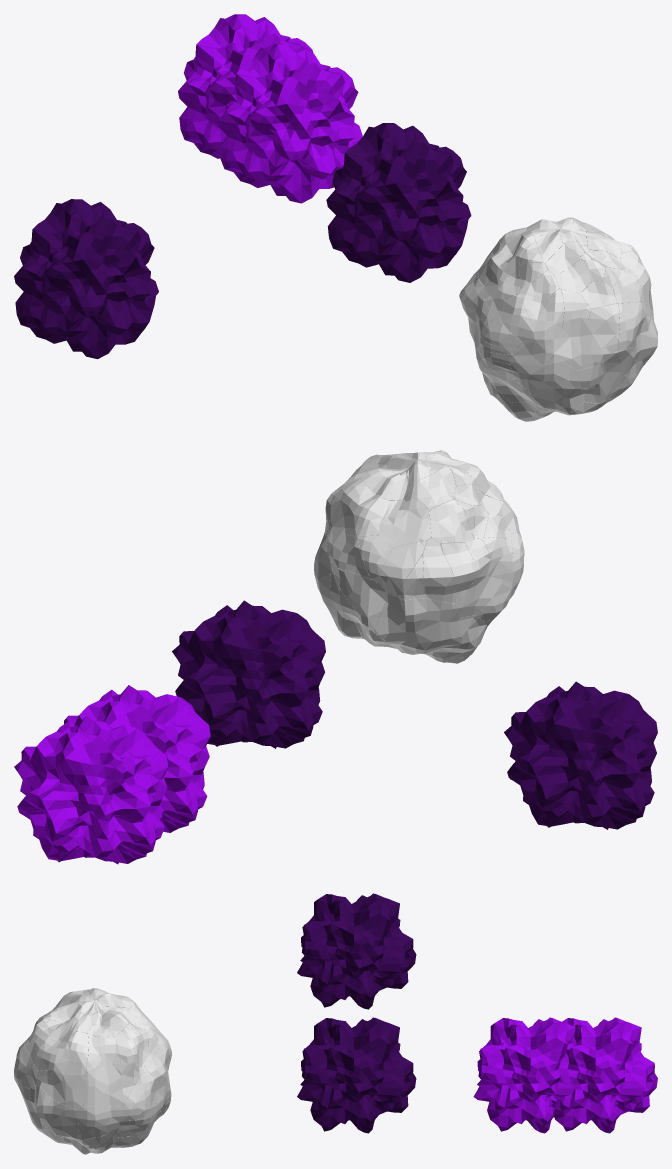
The model's file is blenderIMPgame2.fbx.
3 views of the same model, one above another, from view 1: azimuth 30°, elevation 25°; view 2: azimuth 150°, elevation 25°; view 3: azimuth 270°, elevation 25° (orthographic). The views are drawn at different scales.
Parts seen in each view (by area): view 1: Icosphere, Icosphere.001, Icosphere_cell.044, Icosphere_cell.035, Sphere_cell.097, Icosphere_cell.029, Icosphere_cell.034, Icosphere_cell.028, Icosphere_cell.017, Sphere_cell.020, Icosphere_cell.038, Icosphere_cell.041 (+26 smaller); view 2: Icosphere, Icosphere.001, Sphere_cell.051, Icosphere_cell.035, Icosphere_cell.027, Icosphere_cell.017, Icosphere_cell.016, Icosphere_cell.038, Sphere_cell.082, Icosphere_cell.031, Sphere_cell.052, Icosphere_cell.023 (+31 smaller); view 3: Icosphere, Icosphere.001, Icosphere_cell.033, Sphere_cell.096, Icosphere_cell.022, Sphere_cell.001, Icosphere_cell, Sphere_cell.038, Icosphere_cell.040, Sphere_cell.011, Sphere_cell.065, Icosphere_cell.027 (+26 smaller).
Boxes of the visible parts, x1,y1,x2,y2 form: Icosphere: [326, 123, 471, 282]; Icosphere.001: [218, 43, 362, 203]; Icosphere_cell.044: [82, 224, 147, 317]; Icosphere_cell.035: [20, 199, 96, 257]; Sphere_cell.097: [546, 321, 610, 370]; Icosphere_cell.029: [45, 282, 106, 336]; Icosphere_cell.034: [59, 307, 127, 357]; Icosphere_cell.028: [63, 218, 115, 278]; Icosphere_cell.017: [196, 14, 260, 48]; Sphere_cell.020: [511, 341, 553, 387]; Icosphere_cell.038: [14, 245, 81, 294]; Icosphere_cell.041: [15, 291, 65, 343]; Icosphere: [172, 600, 325, 748]; Icosphere.001: [64, 685, 210, 832]; Sphere_cell.051: [374, 594, 459, 650]; Icosphere_cell.035: [549, 697, 615, 778]; Icosphere_cell.027: [520, 712, 582, 803]; Icosphere_cell.017: [39, 732, 114, 789]; Icosphere_cell.016: [77, 784, 126, 857]; Icosphere_cell.038: [595, 714, 639, 787]; Sphere_cell.082: [378, 495, 431, 548]; Icosphere_cell.031: [557, 777, 630, 825]; Sphere_cell.052: [330, 562, 387, 631]; Icosphere_cell.023: [17, 758, 85, 811]; Icosphere: [297, 1017, 416, 1133]; Icosphere.001: [473, 1017, 575, 1133]; Icosphere_cell.033: [329, 906, 388, 974]; Sphere_cell.096: [84, 1064, 141, 1106]; Icosphere_cell.022: [579, 1032, 630, 1079]; Sphere_cell.001: [36, 1066, 85, 1109]; Icosphere_cell: [577, 1065, 639, 1109]; Sphere_cell.038: [78, 1105, 125, 1140]; Icosphere_cell.040: [300, 926, 346, 979]; Sphere_cell.011: [121, 1072, 156, 1120]; Sphere_cell.065: [43, 1099, 79, 1140]; Icosphere_cell.027: [380, 906, 413, 980].
Size of the model in its own units: 720 by 283 by 1070.
